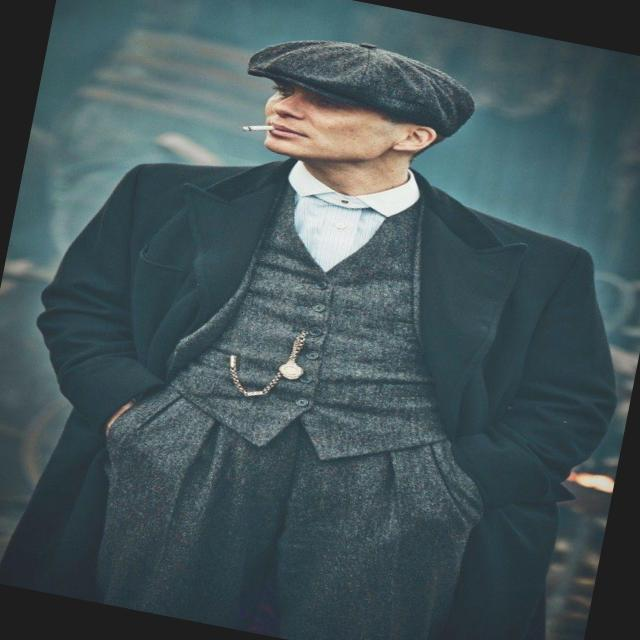cigarette: (218, 111, 283, 142)
